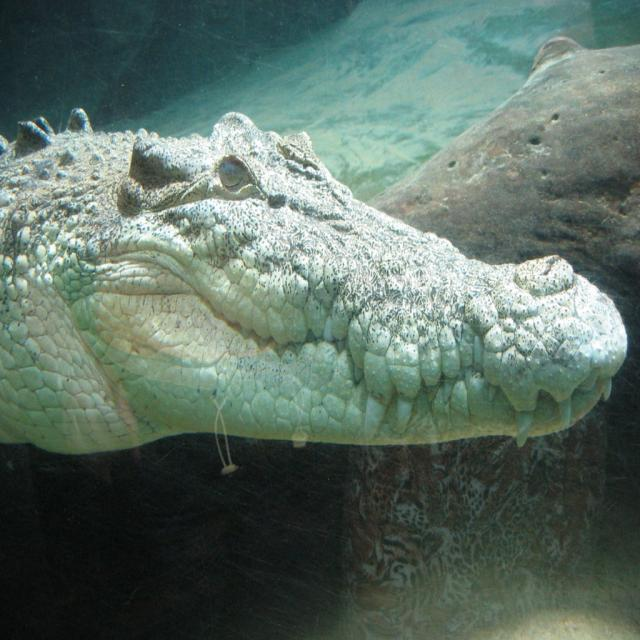crocodile: (0, 108, 629, 450)
